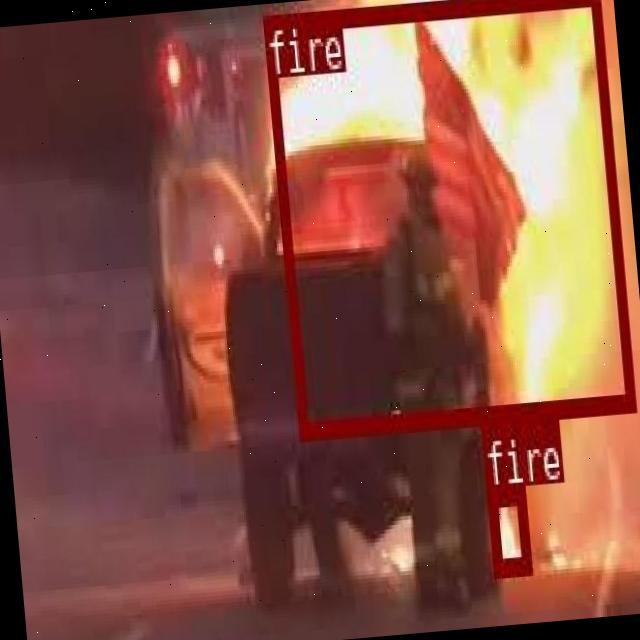fire: (261, 0, 634, 436), (486, 485, 528, 575)
